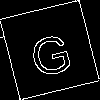G: (25, 25, 75, 79)
